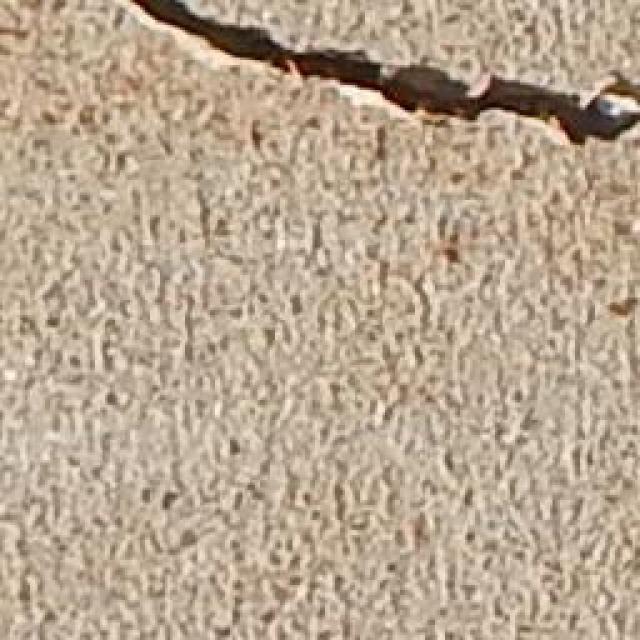concrete-crack: (133, 0, 640, 160)
